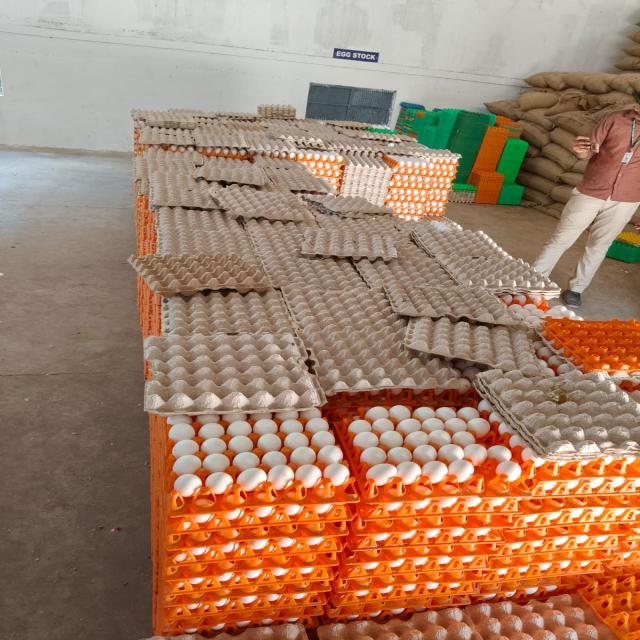egg_tray: (350, 402, 635, 550), (165, 410, 357, 532), (334, 405, 527, 514), (492, 457, 639, 583), (340, 524, 637, 582), (158, 537, 339, 626), (487, 413, 639, 508), (488, 413, 639, 507), (331, 556, 602, 604), (163, 538, 336, 608), (165, 505, 349, 570), (333, 556, 606, 597), (162, 565, 330, 626), (161, 538, 332, 596), (325, 585, 575, 623), (165, 505, 349, 556), (332, 546, 490, 603), (340, 527, 503, 582), (349, 496, 517, 549), (404, 317, 553, 376), (493, 494, 639, 553), (163, 532, 341, 580), (165, 505, 349, 551), (245, 219, 361, 290), (163, 536, 341, 582), (332, 547, 490, 597), (163, 572, 330, 619), (511, 494, 639, 554), (340, 526, 503, 572), (164, 534, 342, 576), (332, 556, 486, 604), (355, 241, 454, 314), (163, 583, 327, 626), (163, 565, 333, 606), (163, 591, 326, 633), (465, 594, 613, 640), (341, 522, 503, 564), (162, 586, 327, 627), (541, 306, 639, 375), (492, 523, 636, 569), (165, 566, 333, 604), (480, 536, 616, 582), (322, 384, 481, 423), (540, 316, 639, 378), (154, 208, 259, 266), (385, 283, 523, 327), (128, 253, 269, 296), (322, 385, 481, 423), (162, 289, 293, 335), (332, 556, 489, 594), (521, 448, 639, 498), (438, 251, 559, 297), (163, 605, 322, 640), (491, 528, 620, 571), (133, 150, 196, 231), (314, 197, 406, 250), (543, 342, 639, 392), (325, 589, 473, 621), (330, 578, 477, 610), (534, 456, 639, 499), (383, 154, 457, 215), (476, 561, 603, 596), (322, 594, 473, 623), (331, 581, 477, 609), (162, 611, 317, 637), (319, 606, 427, 640), (471, 574, 593, 604), (472, 575, 596, 604), (162, 614, 317, 637), (217, 185, 311, 221), (150, 416, 166, 625), (470, 575, 582, 604), (134, 149, 204, 195), (411, 222, 502, 257), (301, 228, 397, 260), (470, 576, 579, 604), (499, 294, 582, 329), (260, 120, 332, 160), (499, 294, 583, 328), (203, 616, 317, 640), (149, 171, 219, 210), (194, 122, 267, 158), (340, 154, 391, 205), (534, 567, 615, 599), (259, 121, 325, 160), (389, 163, 450, 202), (383, 150, 459, 181), (386, 185, 450, 221), (266, 162, 336, 194), (192, 158, 266, 186), (305, 194, 393, 217), (385, 188, 447, 219), (259, 121, 325, 149), (132, 111, 200, 138), (134, 154, 160, 224), (194, 124, 251, 155), (297, 150, 344, 187), (386, 188, 446, 216), (131, 108, 208, 129), (605, 523, 639, 570), (306, 199, 369, 224), (137, 276, 161, 339), (603, 530, 639, 572), (498, 293, 548, 323), (134, 184, 155, 255), (532, 340, 574, 375), (138, 277, 161, 340), (533, 340, 574, 375), (139, 127, 194, 150), (325, 134, 382, 156), (250, 133, 297, 159), (289, 119, 338, 143), (134, 138, 196, 156), (184, 543, 242, 558), (137, 212, 156, 255), (218, 117, 265, 134), (598, 564, 639, 583), (395, 206, 444, 221), (196, 146, 251, 159), (216, 111, 257, 128), (357, 130, 405, 143), (148, 341, 176, 362), (257, 104, 295, 118), (429, 216, 462, 230), (614, 376, 639, 394), (134, 135, 153, 157), (134, 123, 145, 155), (307, 537, 334, 550), (616, 232, 639, 245), (135, 178, 149, 198), (238, 575, 254, 592), (425, 530, 447, 541), (143, 358, 153, 382), (513, 444, 530, 457), (259, 572, 272, 584), (269, 631, 290, 638), (309, 539, 325, 548), (249, 547, 260, 559), (165, 519, 178, 529), (145, 360, 151, 380), (270, 507, 285, 514), (195, 515, 209, 522), (212, 588, 226, 595), (388, 219, 396, 231), (164, 629, 177, 636), (198, 504, 211, 511), (481, 401, 490, 411), (387, 314, 401, 320), (501, 589, 509, 599), (194, 548, 207, 554), (195, 515, 206, 522), (399, 320, 406, 330), (346, 536, 353, 546), (185, 628, 198, 633), (194, 336, 203, 343), (306, 583, 318, 588), (266, 157, 273, 165), (399, 579, 413, 583), (523, 587, 534, 592), (309, 202, 318, 208), (225, 552, 235, 557), (274, 141, 281, 148), (336, 627, 342, 635), (521, 598, 530, 603), (193, 620, 202, 625), (632, 394, 639, 400), (453, 534, 460, 540), (499, 424, 505, 431), (502, 425, 508, 432), (310, 566, 316, 573), (448, 528, 456, 533), (324, 568, 332, 573), (292, 577, 302, 581), (595, 526, 605, 530), (213, 582, 221, 587), (202, 121, 215, 124), (285, 515, 294, 519), (186, 344, 192, 350), (292, 561, 299, 566), (346, 573, 354, 577), (527, 520, 532, 526), (401, 561, 407, 566), (584, 578, 590, 583), (448, 600, 454, 605), (332, 196, 337, 202), (467, 576, 477, 579), (406, 136, 412, 141), (158, 146, 165, 150), (393, 195, 402, 198), (351, 581, 356, 586), (187, 520, 192, 525), (634, 396, 639, 401), (579, 537, 585, 541), (556, 541, 564, 544), (345, 223, 353, 226), (243, 636, 249, 640), (159, 112, 167, 115), (331, 150, 334, 158), (366, 563, 373, 566), (486, 410, 490, 415), (629, 546, 634, 550), (348, 541, 352, 546), (346, 539, 350, 544), (597, 573, 602, 577), (542, 558, 548, 561), (309, 147, 315, 150), (310, 531, 316, 534), (431, 593, 437, 596), (253, 570, 259, 573), (369, 570, 378, 572), (446, 550, 450, 554), (360, 608, 364, 612), (441, 385, 446, 388), (317, 146, 322, 149), (376, 220, 381, 223), (302, 572, 307, 575), (249, 635, 254, 638), (597, 573, 602, 576), (429, 559, 434, 562), (197, 618, 204, 620), (405, 217, 412, 219), (198, 498, 204, 500), (333, 197, 337, 200), (221, 547, 225, 550), (283, 540, 285, 546), (201, 542, 207, 544), (182, 521, 185, 525), (354, 207, 360, 209), (245, 338, 249, 341), (615, 527, 619, 530), (189, 594, 195, 596), (407, 585, 411, 588), (216, 604, 222, 606), (318, 507, 323, 509), (511, 436, 516, 438), (307, 563, 312, 565), (262, 586, 267, 588), (236, 150, 238, 155), (324, 538, 329, 540), (522, 496, 525, 499), (170, 569, 173, 572), (174, 347, 177, 350), (181, 345, 184, 348), (578, 569, 581, 572), (466, 551, 470, 553), (354, 464, 356, 468), (353, 610, 357, 612), (292, 534, 296, 536), (202, 116, 206, 118), (157, 366, 161, 368), (406, 532, 410, 534), (452, 551, 459, 552), (197, 623, 200, 625), (574, 512, 577, 514), (601, 557, 604, 559), (626, 486, 628, 489), (579, 547, 582, 549), (257, 156, 259, 159), (331, 545, 337, 546), (447, 504, 450, 506), (545, 581, 548, 583), (398, 595, 401, 597), (302, 578, 307, 579), (270, 598, 274, 599), (183, 572, 187, 573), (483, 413, 485, 415), (185, 169, 189, 170), (436, 530, 438, 532), (304, 609, 306, 611), (405, 604, 409, 605), (545, 551, 549, 552), (339, 570, 341, 572), (349, 574, 351, 576), (369, 609, 371, 611), (628, 638, 630, 640), (323, 638, 325, 640), (233, 546, 235, 548), (215, 344, 217, 346), (621, 348, 623, 350), (198, 120, 202, 121), (596, 576, 598, 578), (486, 598, 490, 599), (382, 587, 386, 588), (396, 591, 398, 593), (322, 597, 324, 599), (281, 603, 282, 606), (545, 582, 548, 583), (563, 548, 566, 549), (286, 509, 289, 510), (582, 585, 585, 586), (329, 560, 332, 561), (244, 602, 247, 603), (407, 298, 408, 300), (165, 169, 167, 170), (162, 167, 164, 168), (187, 164, 188, 166), (362, 558, 364, 559), (631, 484, 632, 486), (195, 636, 197, 637), (319, 607, 321, 608), (444, 580, 446, 581), (290, 511, 292, 512), (589, 582, 590, 584), (197, 154, 198, 156), (140, 278, 141, 280), (384, 207, 386, 208), (246, 572, 248, 573), (565, 371, 567, 372), (361, 503, 362, 505), (518, 588, 519, 590), (382, 594, 383, 596), (478, 409, 479, 410), (594, 498, 595, 499), (566, 547, 567, 548), (510, 532, 511, 533), (212, 569, 213, 570), (196, 636, 197, 637), (285, 147, 286, 148), (633, 356, 634, 357), (189, 625, 190, 626), (416, 218, 417, 219), (377, 294, 377, 294), (582, 516, 586, 516), (578, 505, 578, 506), (634, 503, 634, 503), (194, 164, 194, 166), (191, 163, 192, 163), (485, 403, 485, 404), (487, 530, 488, 530), (347, 450, 348, 450), (183, 627, 183, 628), (207, 619, 208, 619), (336, 534, 338, 534), (396, 256, 396, 257), (633, 472, 636, 472), (447, 560, 447, 562), (554, 547, 554, 548), (158, 430, 158, 430), (418, 592, 419, 592), (375, 572, 377, 572), (318, 508, 320, 508), (265, 548, 267, 548), (283, 574, 283, 574), (275, 534, 277, 534), (334, 562, 334, 564), (300, 539, 302, 539), (466, 636, 472, 636), (549, 594, 550, 594), (140, 310, 141, 310), (149, 290, 150, 290), (507, 440, 507, 441), (263, 612, 263, 612), (536, 583, 538, 583), (205, 542, 205, 544), (201, 348, 201, 348), (516, 498, 516, 499), (569, 572, 571, 572), (387, 550, 389, 550), (382, 543, 383, 543), (434, 532, 434, 532), (230, 578, 230, 580), (242, 150, 244, 150), (139, 138, 139, 140), (363, 590, 363, 591), (352, 572, 353, 572), (363, 565, 363, 566), (223, 603, 226, 603), (252, 556, 254, 556)
